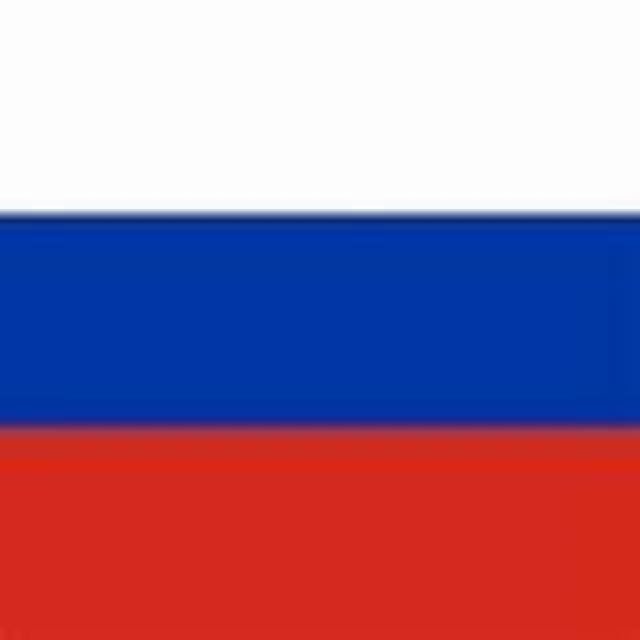russia: (3, 0, 620, 640)
